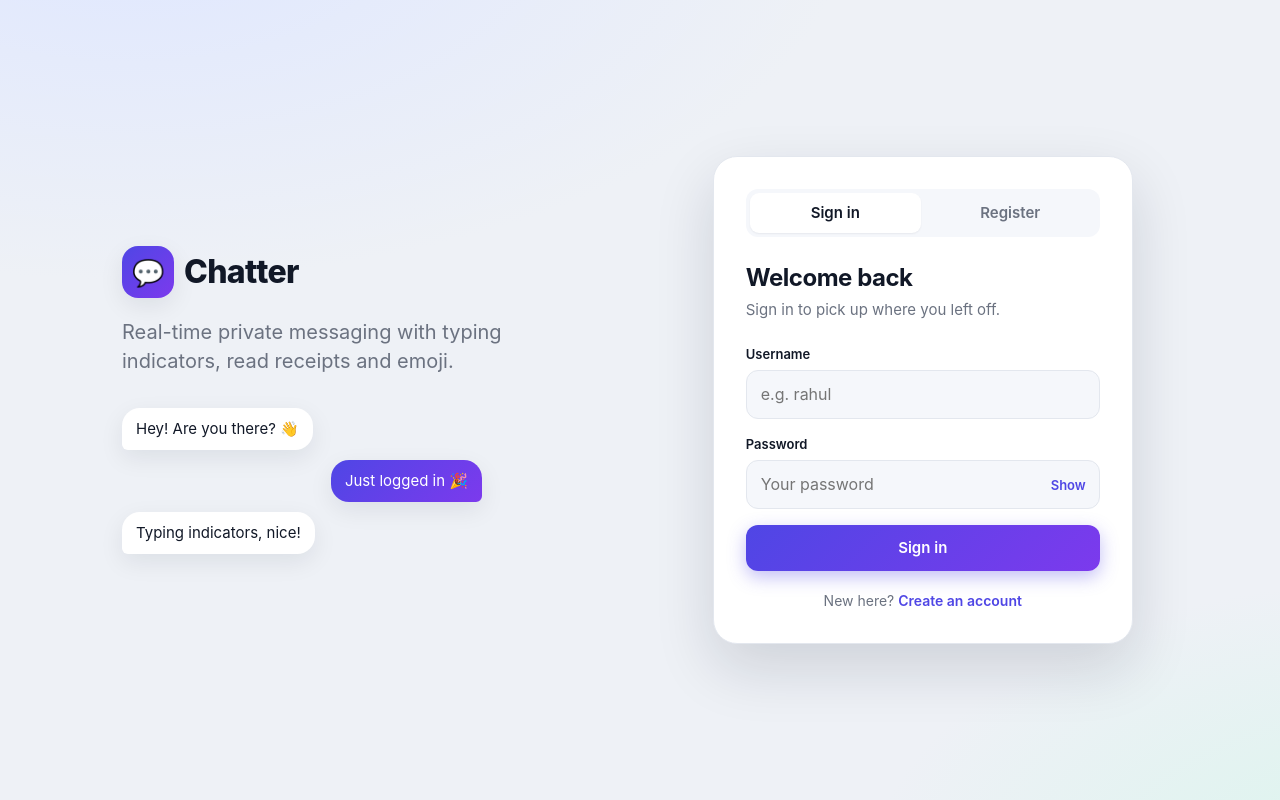
Test case: validates empty credentials
This screenshot has width=1280, height=800.
Step 1. Click the button "Sign in" → (923, 548), box [746, 525, 1100, 571]
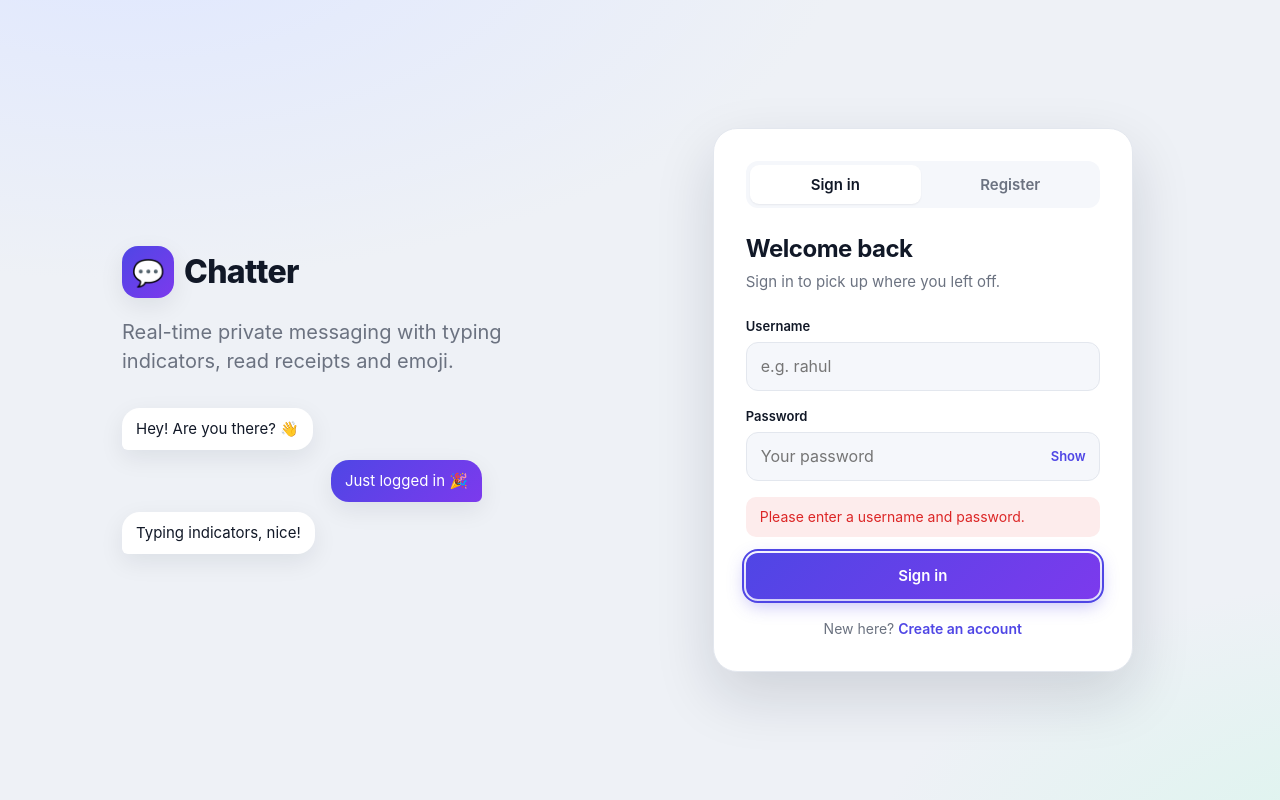
Result: the message shows "enter a username and password" at [760, 508, 1025, 525]
